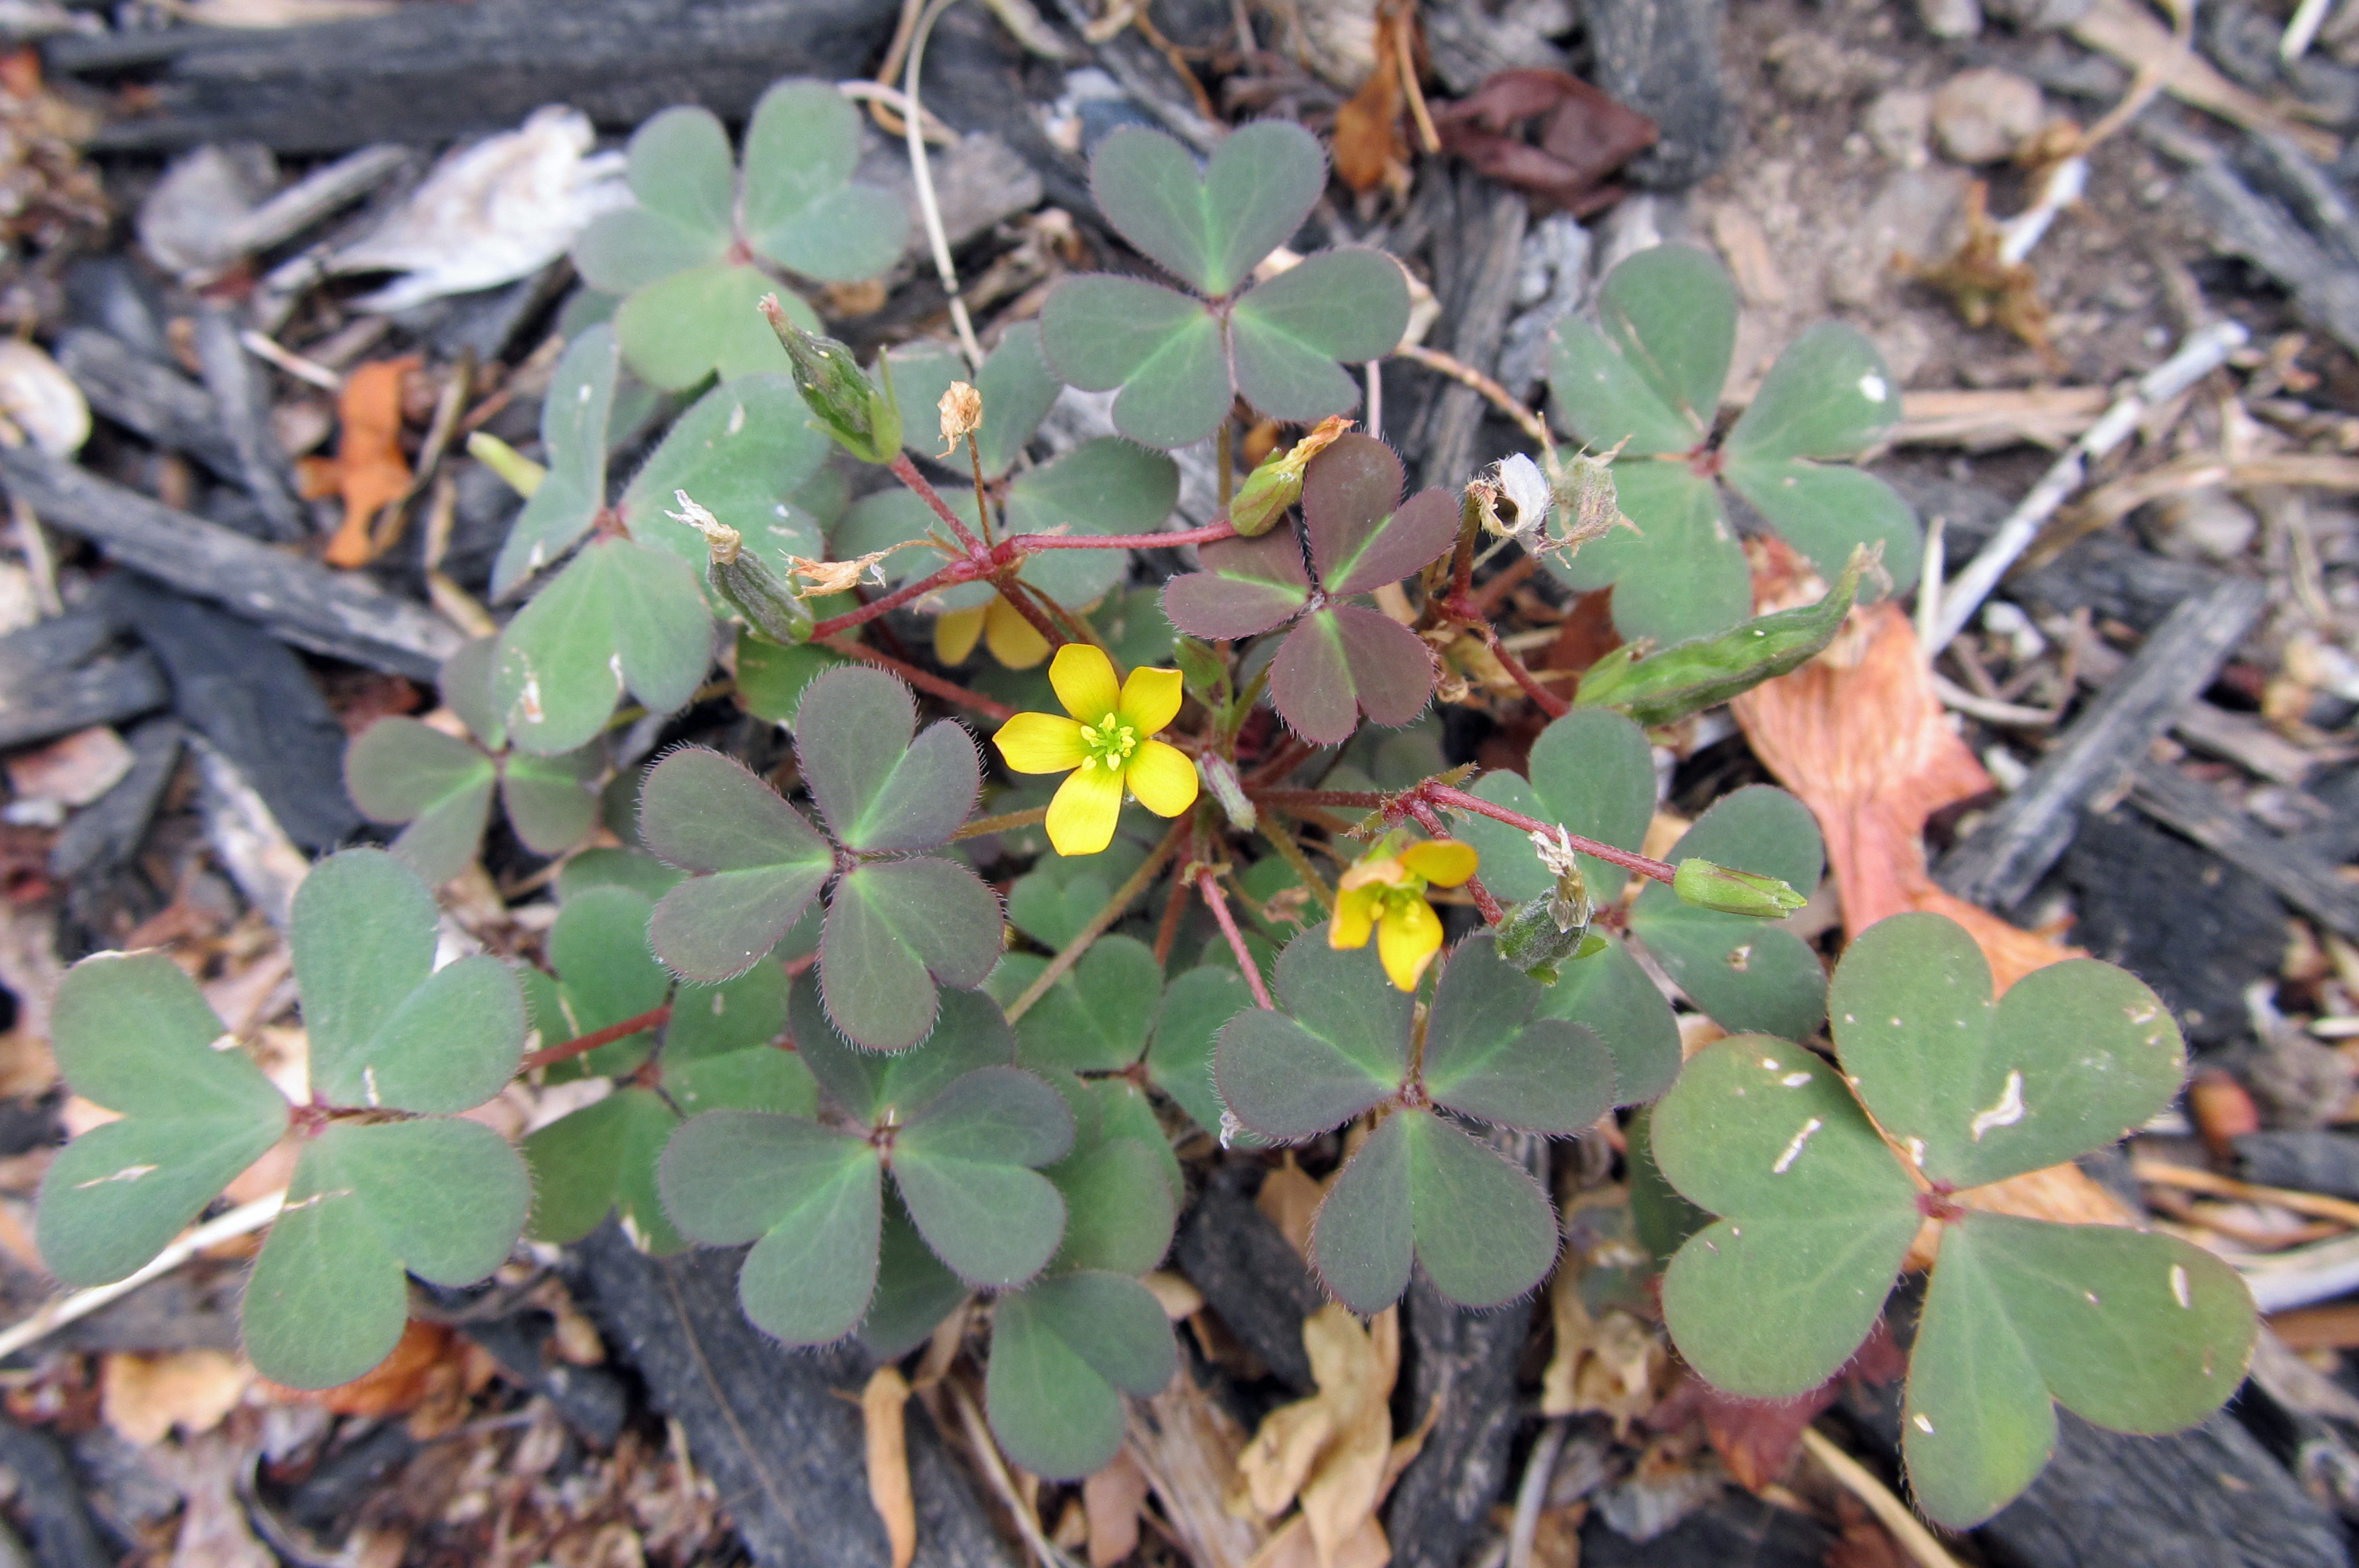oxalis: (418, 264, 2336, 1498)
